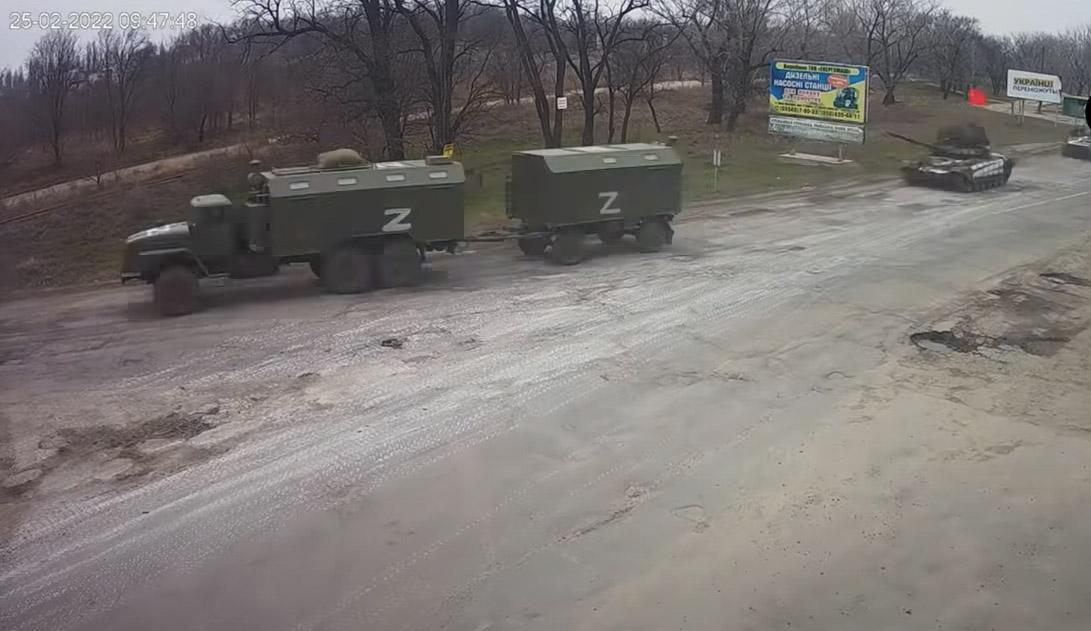tank: (881, 114, 1030, 200), (1064, 122, 1091, 160)
truck: (115, 140, 700, 300)
